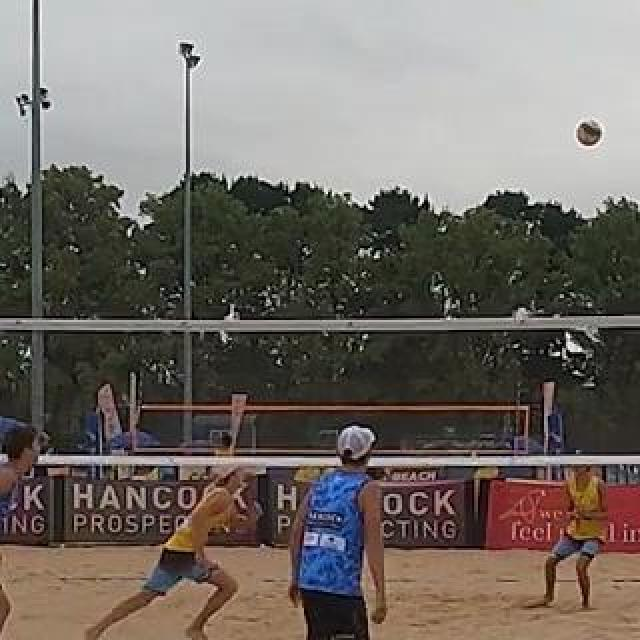volleyball: (575, 120, 603, 148)
